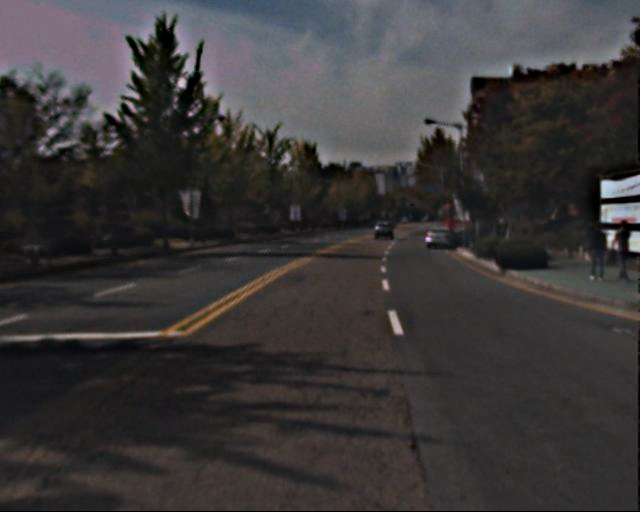person: (610, 220, 636, 283), (584, 225, 609, 285)
